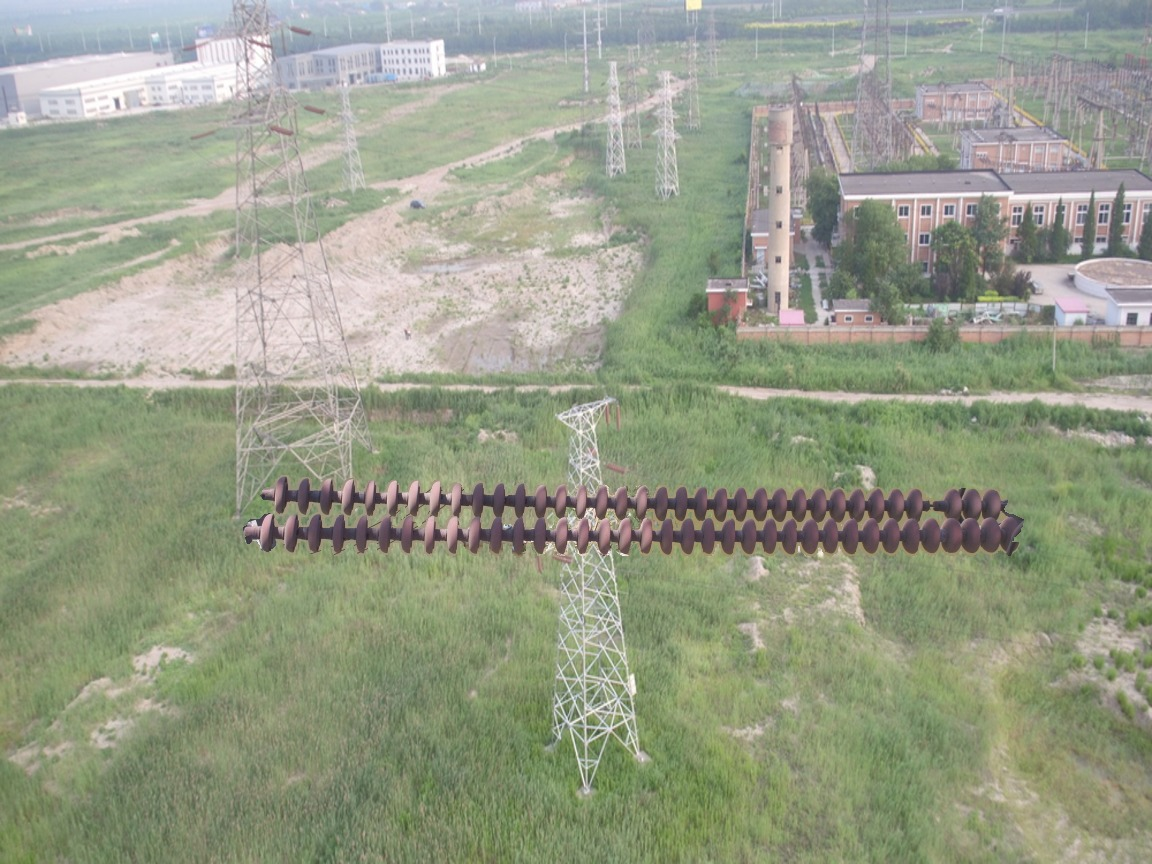defect: (903, 486, 967, 523)
